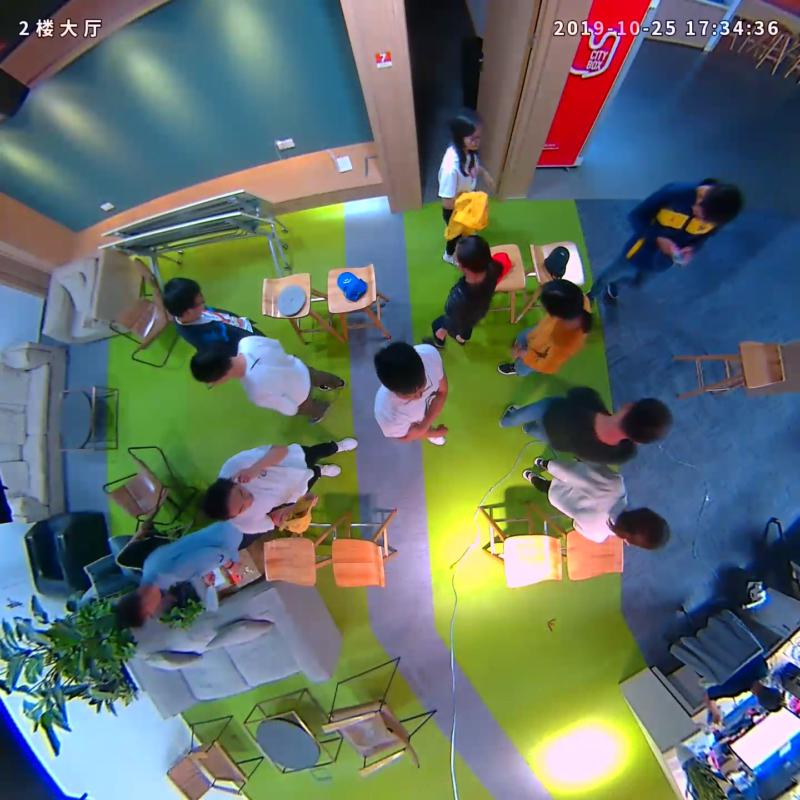head: (369, 340, 438, 406), (612, 502, 676, 555), (614, 393, 677, 446), (532, 277, 594, 324), (184, 339, 241, 390), (688, 178, 745, 228), (156, 275, 212, 324), (442, 107, 491, 160), (445, 234, 497, 281), (200, 475, 250, 522), (107, 587, 150, 636)
